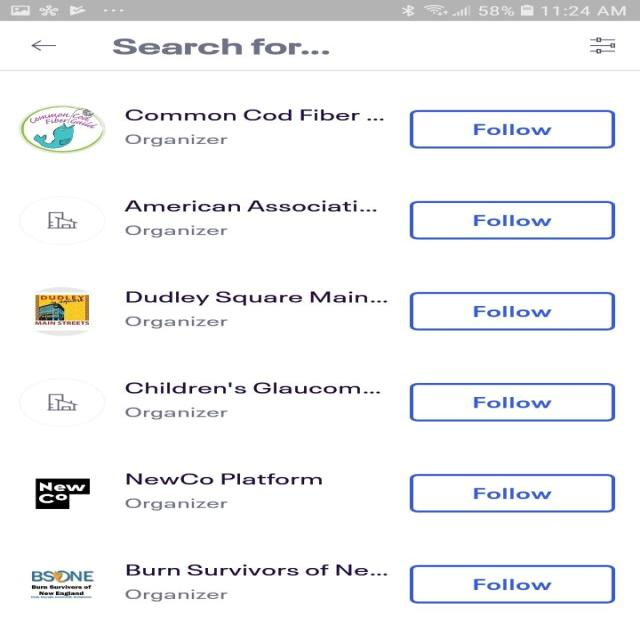Icon: (588, 37, 616, 54), (30, 40, 56, 51)
Image: (19, 105, 106, 154), (20, 378, 106, 427), (19, 196, 106, 244), (34, 286, 90, 336), (31, 570, 94, 598), (34, 478, 90, 509)
Text: (125, 290, 387, 306), (112, 38, 329, 55), (124, 381, 380, 394), (125, 564, 388, 576), (124, 109, 383, 121), (124, 200, 376, 212), (126, 472, 322, 485), (125, 588, 228, 602), (125, 406, 228, 419), (125, 225, 228, 238), (125, 498, 228, 510), (125, 316, 228, 328), (125, 134, 228, 146)
TextButton: (409, 564, 615, 604), (409, 473, 615, 513), (409, 382, 615, 422), (409, 291, 615, 331), (409, 200, 615, 240), (409, 109, 615, 149)
